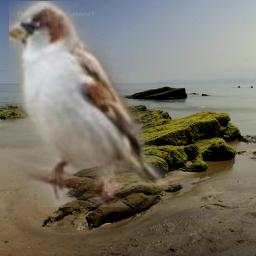Sparrow: (9, 1, 179, 207)
